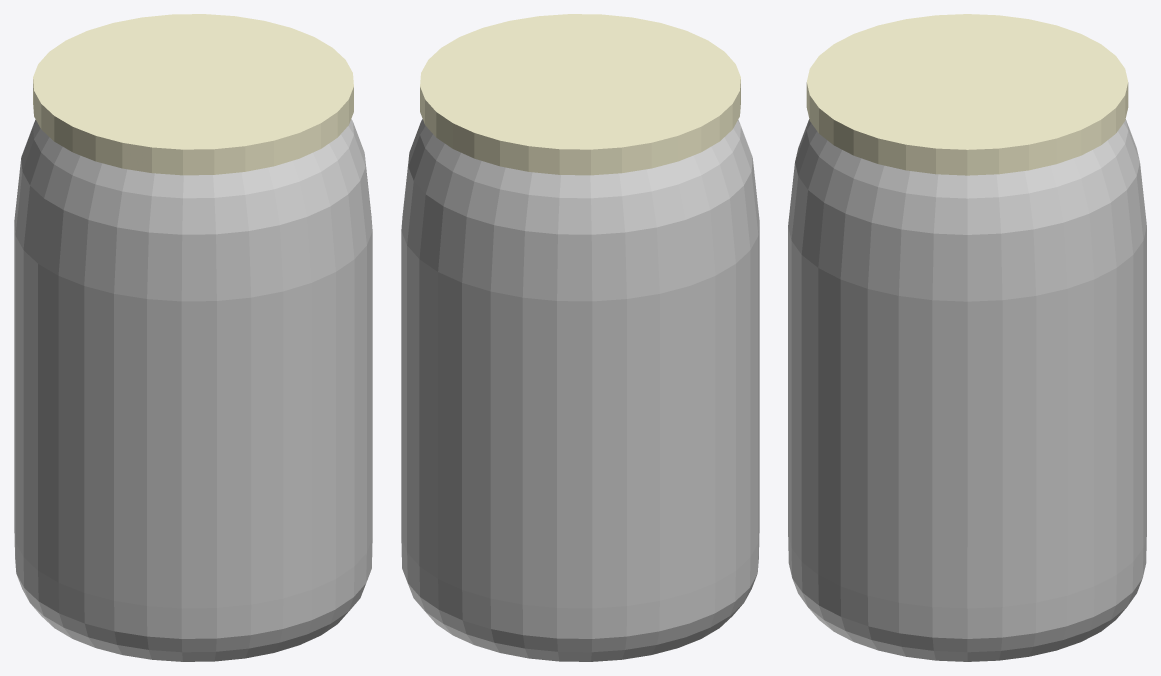
The model's file is sugar.glb.
The picture shows the model from 3 angles, left to right: view 1: azimuth 30°, elevation 25°; view 2: azimuth 150°, elevation 25°; view 3: azimuth 270°, elevation 25°; orthographic projection.
Visible parts, largest first — view 1: Cylinder.001; view 2: Cylinder.001; view 3: Cylinder.001.
Part boxes in pixels (bbox=[...]): Cylinder.001: bbox=[14, 14, 372, 661]; Cylinder.001: bbox=[401, 14, 759, 661]; Cylinder.001: bbox=[788, 14, 1146, 661].
Bounding box in the file's own units: 2.98 × 4.69 × 2.98.
